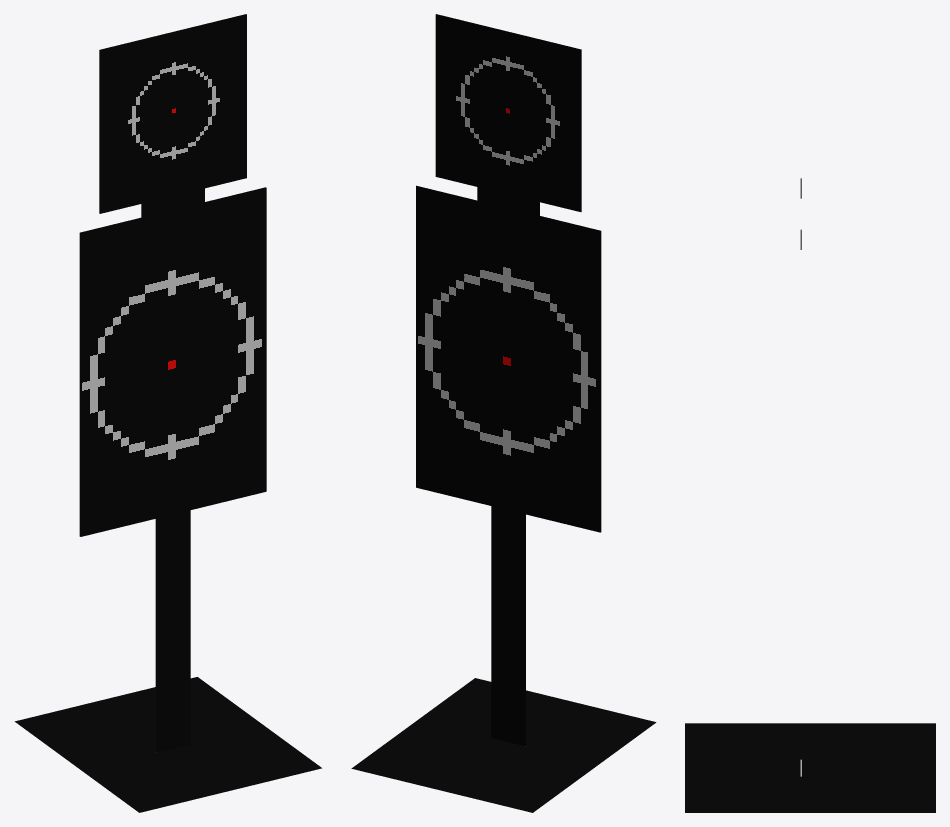
Rendered from BLOCKYGON_AIM TRAINIER.fbx.
3 views of the same model, side by side, from view 1: azimuth 30°, elevation 25°; view 2: azimuth 150°, elevation 25°; view 3: azimuth 270°, elevation 25° (orthographic).
Parts seen in each view (by area): view 1: BLOCKYGON_AIM_TRAINIER; view 2: BLOCKYGON_AIM_TRAINIER; view 3: BLOCKYGON_AIM_TRAINIER.
Part boxes in pixels (left/top/right/bottom): BLOCKYGON_AIM_TRAINIER: left=14, top=14, right=321, bottom=812; BLOCKYGON_AIM_TRAINIER: left=351, top=14, right=656, bottom=812; BLOCKYGON_AIM_TRAINIER: left=685, top=178, right=935, bottom=812.
Bounding box in the file's own units: 98.02 × 360 × 114.
Materials: 1 (1 with a texture image).
